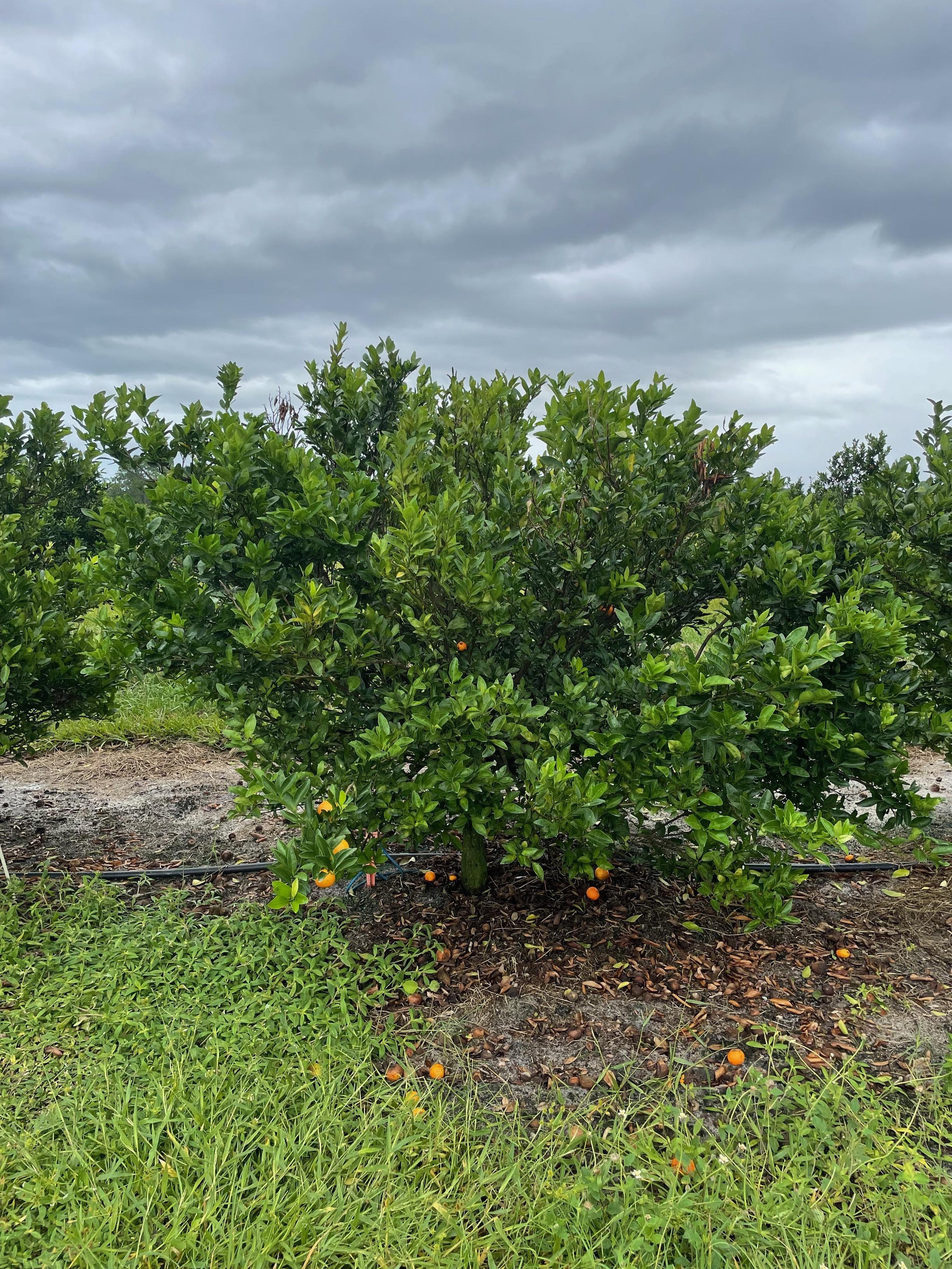fruit_on_ground: (316, 798, 343, 824), (312, 866, 338, 890), (327, 836, 351, 860), (597, 598, 618, 618), (901, 501, 917, 517), (455, 638, 470, 654)
fruit_on_tree: (667, 1150, 698, 1178), (725, 1045, 748, 1067), (809, 958, 830, 977), (384, 1063, 404, 1082), (583, 884, 603, 903), (427, 1061, 447, 1080), (410, 1104, 429, 1122), (593, 864, 612, 882), (403, 1087, 421, 1105), (834, 944, 852, 960), (423, 868, 438, 882), (842, 852, 855, 863), (446, 871, 458, 882)
